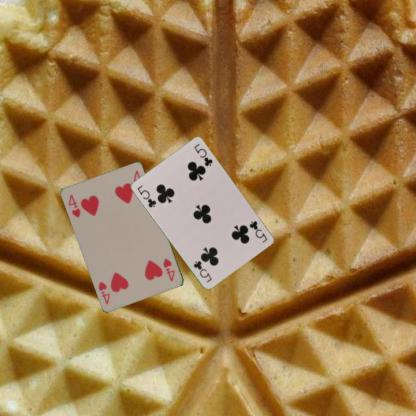4h: (66, 191, 82, 219), (161, 256, 176, 283)
5c: (135, 182, 158, 209), (246, 218, 268, 244)
